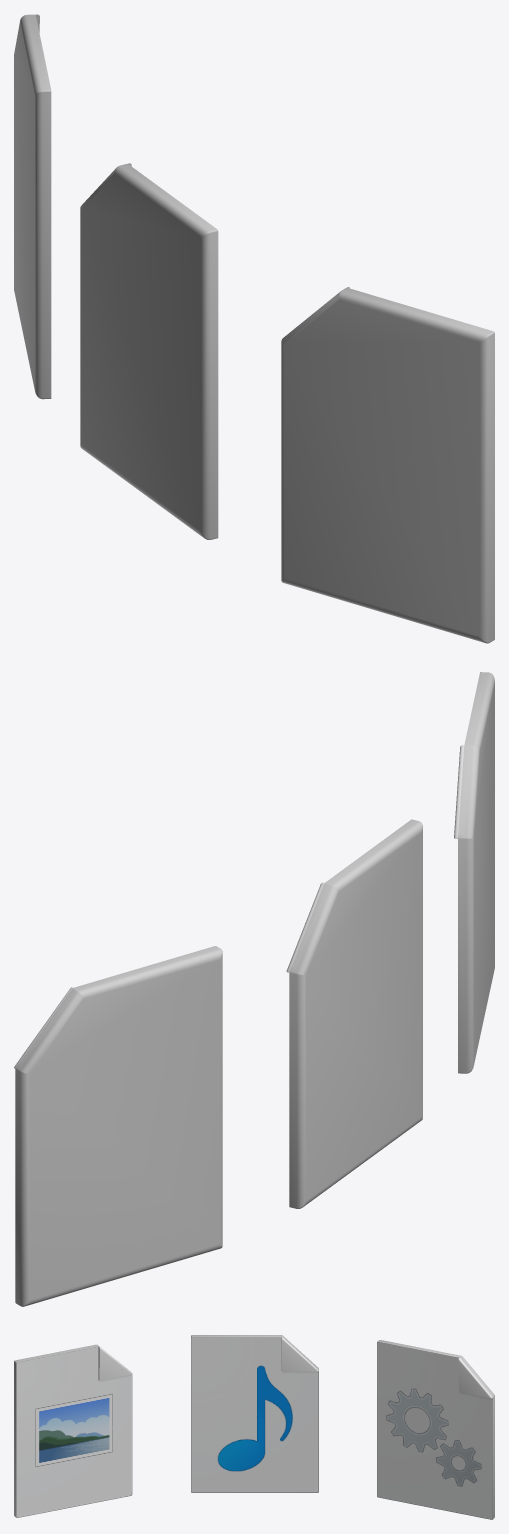
Rendered from windows_10_file_icons.glb.
The picture shows the model from 3 angles, top to bottom: view 1: azimuth 30°, elevation 25°; view 2: azimuth 150°, elevation 25°; view 3: azimuth 270°, elevation 25°; orthographic projection. The views are drawn at different scales.
Visible parts, largest first — view 1: File 2_0, File 3_1, File 1_2; view 2: File 1_2, File 3_1, File 2_0; view 3: File 3_1, File 2_0, File 1_2.
Part boxes in pixels (x1,y1,x2,y2): File 2_0: (281, 287, 494, 643); File 3_1: (80, 163, 218, 539); File 1_2: (14, 14, 51, 399); File 1_2: (14, 946, 222, 1306); File 3_1: (286, 819, 422, 1208); File 2_0: (454, 672, 494, 1073); File 3_1: (191, 1335, 318, 1492); File 2_0: (14, 1344, 132, 1517); File 1_2: (377, 1340, 494, 1519).
Bounding box in the file's own units: 0.8151 × 1.89 × 5.31.
Materials: 5 (3 with a texture image).
